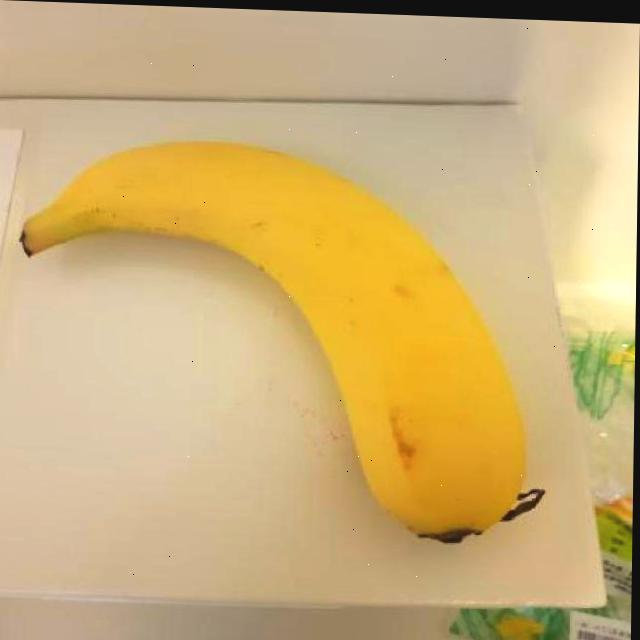banana: (10, 127, 549, 552)
